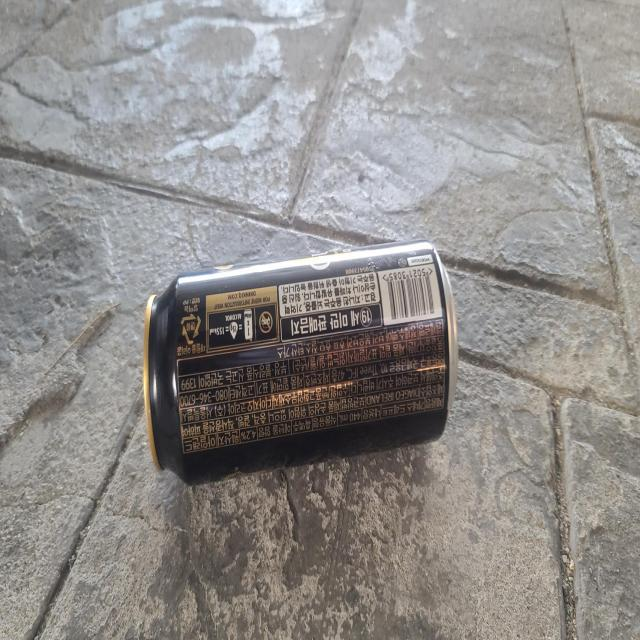can: (143, 240, 459, 483)
